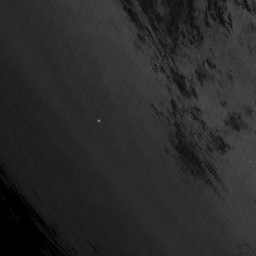Target: (95, 117, 102, 125)
